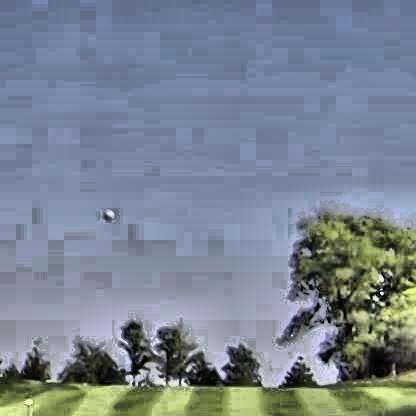golfball: (99, 207, 113, 219)
